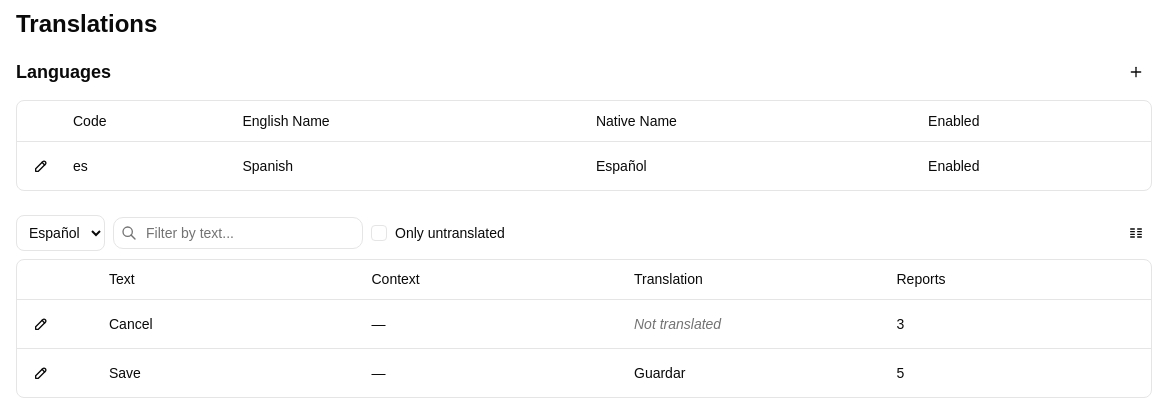
Test: TranslationsAdminPage › filters to only untranslated tokens
Expected: the text "Cancel" is shown, [101,300,364,348]
What coordinates should you click on to do the following:
click the checkbox named "only untranslated"
I would click on:
 (379, 232)
Its box is [371,224,387,240].
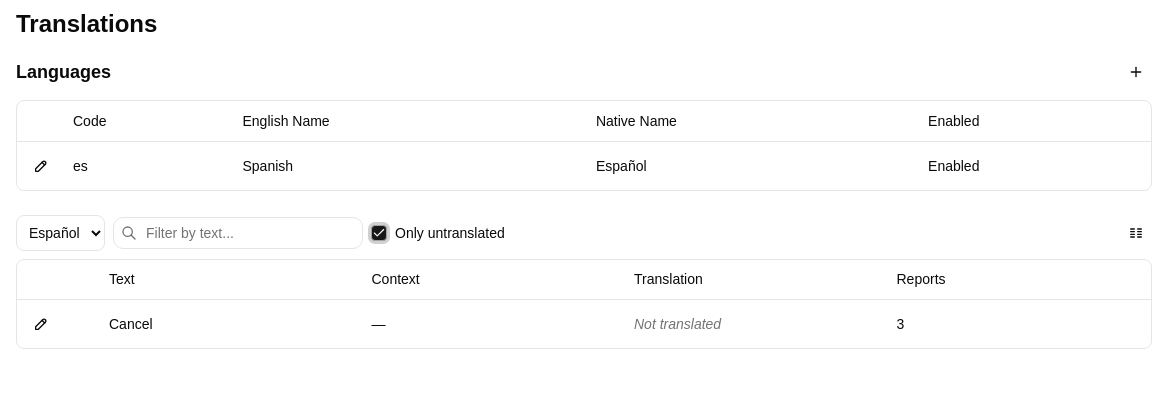
Expected: the text "Cancel" is shown, [101,300,364,348]
Result: the text "Save" is gone
